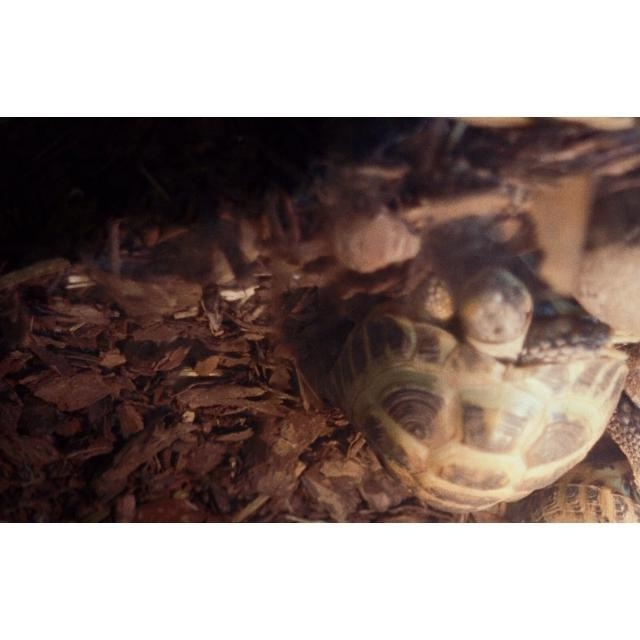turtle: (316, 259, 631, 513)
